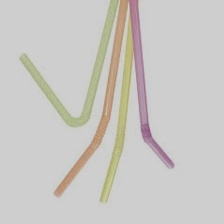drinking_straw: (14, 0, 121, 133), (126, 0, 181, 174)
